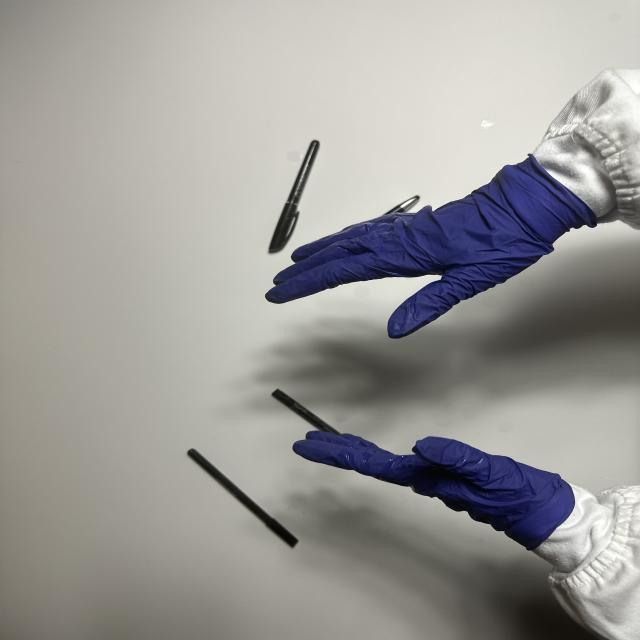gloves_contaminated: (266, 156, 596, 338), (293, 432, 574, 550)
